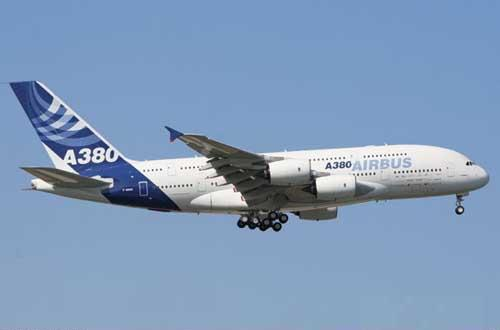airplane: (4, 77, 487, 228)
